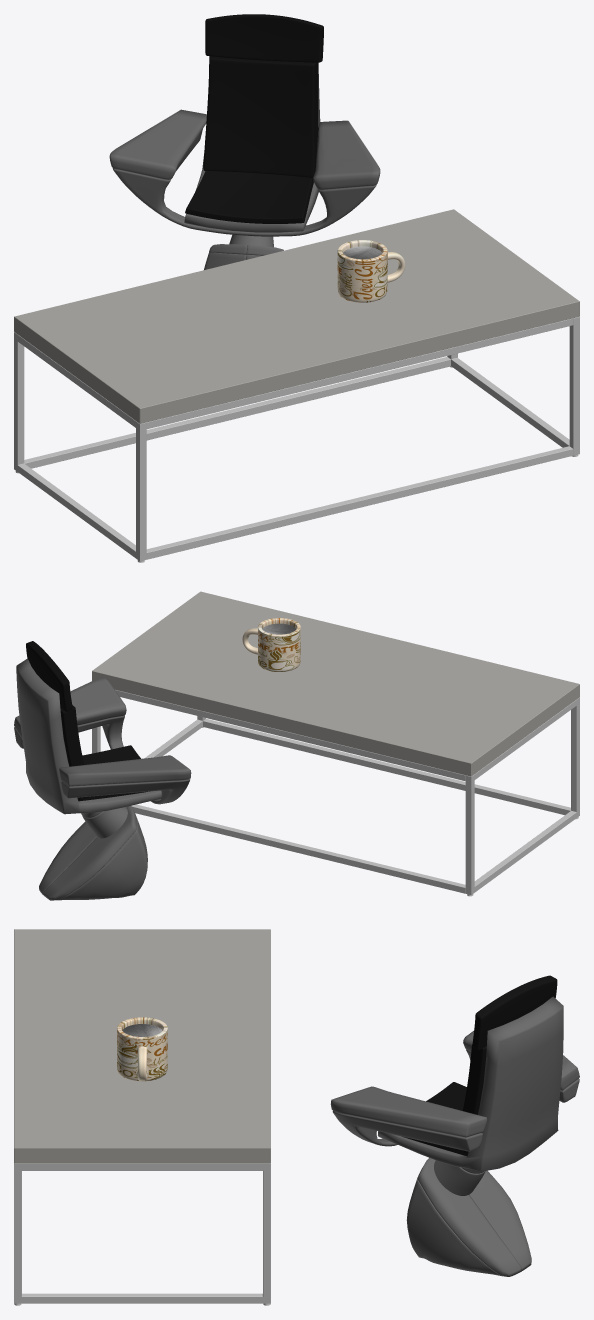
The model's file is coffee set.fbx.
The picture shows the model from 3 angles, top to bottom: view 1: azimuth 30°, elevation 25°; view 2: azimuth 150°, elevation 25°; view 3: azimuth 270°, elevation 25°; orthographic projection. The views are drawn at different scales.
Visible parts, largest first — view 1: tabletop, metal base, Box002, Box005, Box003, Box001, Cylinder, Box004, Box006; view 2: tabletop, metal base, Box005, Box006, Box004, Cylinder, Box001, Box002, Cylinder001, Box003; view 3: tabletop, Box004, Box006, Box005, metal base, Cylinder, Box001, Cylinder001, Box002, Box003.
Boxes of the visible parts, <box> form: tabletop: <box>14,209,579,423</box>; metal base: <box>14,316,579,561</box>; Box002: <box>203,56,318,177</box>; Box005: <box>109,109,380,236</box>; Box003: <box>185,170,313,223</box>; Box001: <box>205,14,323,62</box>; Cylinder: <box>337,240,405,302</box>; Box004: <box>184,63,320,232</box>; Box006: <box>204,244,283,269</box>; tabletop: <box>92,591,579,776</box>; metal base: <box>92,690,579,894</box>; Box005: <box>14,678,191,804</box>; Box006: <box>39,806,147,900</box>; Box004: <box>16,659,161,814</box>; Cylinder: <box>242,618,300,671</box>; Box001: <box>26,641,72,711</box>; Box002: <box>60,705,88,800</box>; Cylinder001: <box>81,807,127,838</box>; Box003: <box>77,745,149,801</box>; tabletop: <box>14,929,270,1163</box>; Box004: <box>378,996,563,1171</box>; Box006: <box>406,1158,531,1276</box>; Box005: <box>330,1031,579,1151</box>; metal base: <box>14,1163,270,1303</box>; Cylinder: <box>117,1017,167,1081</box>; Box001: <box>472,975,557,1050</box>; Cylinder001: <box>434,1160,485,1195</box>; Box002: <box>461,1044,486,1153</box>; Box003: <box>402,1082,468,1156</box>.
Bounding box in the file's own units: 4.07 × 2.45 × 4.45.
